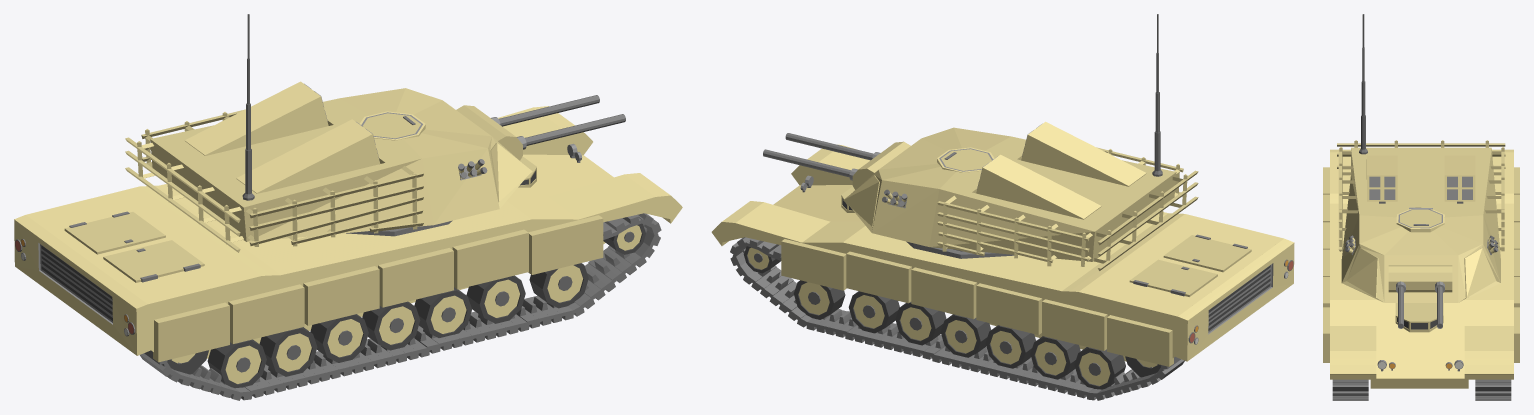
Rendered from kar9.fbx.
The picture shows the model from 3 angles, left to right: view 1: azimuth 30°, elevation 25°; view 2: azimuth 150°, elevation 25°; view 3: azimuth 270°, elevation 25°; orthographic projection. The views are drawn at different scales.
Visible parts, largest first — view 1: Boole_5, Cube_1, Cylinder_2, Cylinder_2_3, Cylinder_2_2, Cylinder_4, Cylinder_5, Cylinder_3, Cylinder_1, Cylinder_6, Cylinder_9, Cylinder_1_2; view 2: Boole_5, Cube_1, Cylinder_2, Cylinder_3_2, Cylinder_2_5, Cylinder_1_3, Cylinder_2_4, Cylinder_4_2, Cylinder_5_2, Cylinder_6_2, Cylinder_9_2; view 3: Cube_1, Boole_5, Cylinder_2, Boole_90, Boole_90_2, Boole_91, Boole_91_2.
Boxes of the visible parts, <box> form: Boole_5: <box>14,106,682,362</box>; Cube_1: <box>125,14,532,252</box>; Cylinder_2: <box>456,95,625,160</box>; Cylinder_2_3: <box>207,339,266,388</box>; Cylinder_2_2: <box>259,327,317,376</box>; Cylinder_4: <box>414,287,471,337</box>; Cylinder_5: <box>466,275,525,323</box>; Cylinder_3: <box>362,301,420,350</box>; Cylinder_1: <box>310,314,368,362</box>; Cylinder_6: <box>529,263,588,308</box>; Cylinder_9: <box>603,223,645,254</box>; Cylinder_1_2: <box>167,350,208,374</box>; Boole_5: <box>711,144,1294,366</box>; Cube_1: <box>843,14,1198,270</box>; Cylinder_2: <box>763,133,910,189</box>; Cylinder_3_2: <box>940,314,991,357</box>; Cylinder_2_5: <box>1074,347,1125,389</box>; Cylinder_1_3: <box>985,325,1035,368</box>; Cylinder_2_4: <box>1030,336,1080,379</box>; Cylinder_4_2: <box>895,302,946,345</box>; Cylinder_5_2: <box>848,291,899,333</box>; Cylinder_6_2: <box>793,280,845,319</box>; Cylinder_9_2: <box>743,246,780,273</box>; Cube_1: <box>1337,14,1505,302</box>; Boole_5: <box>1323,149,1519,388</box>; Cylinder_2: <box>1388,265,1452,328</box>; Boole_90: <box>1332,382,1368,391</box>; Boole_90_2: <box>1475,382,1511,391</box>; Boole_91: <box>1332,379,1368,385</box>; Boole_91_2: <box>1475,379,1511,385</box>.
Bounding box in the file's own units: 914 × 584 × 378.
